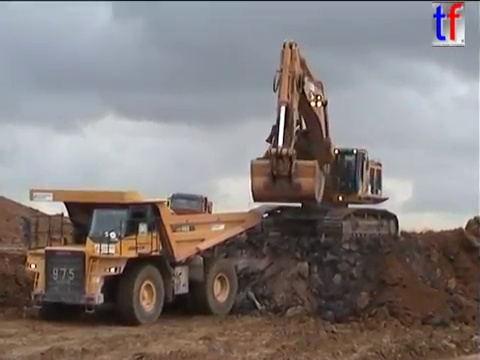excavator: (242, 36, 402, 247)
truck: (19, 186, 263, 327), (163, 191, 214, 231)
